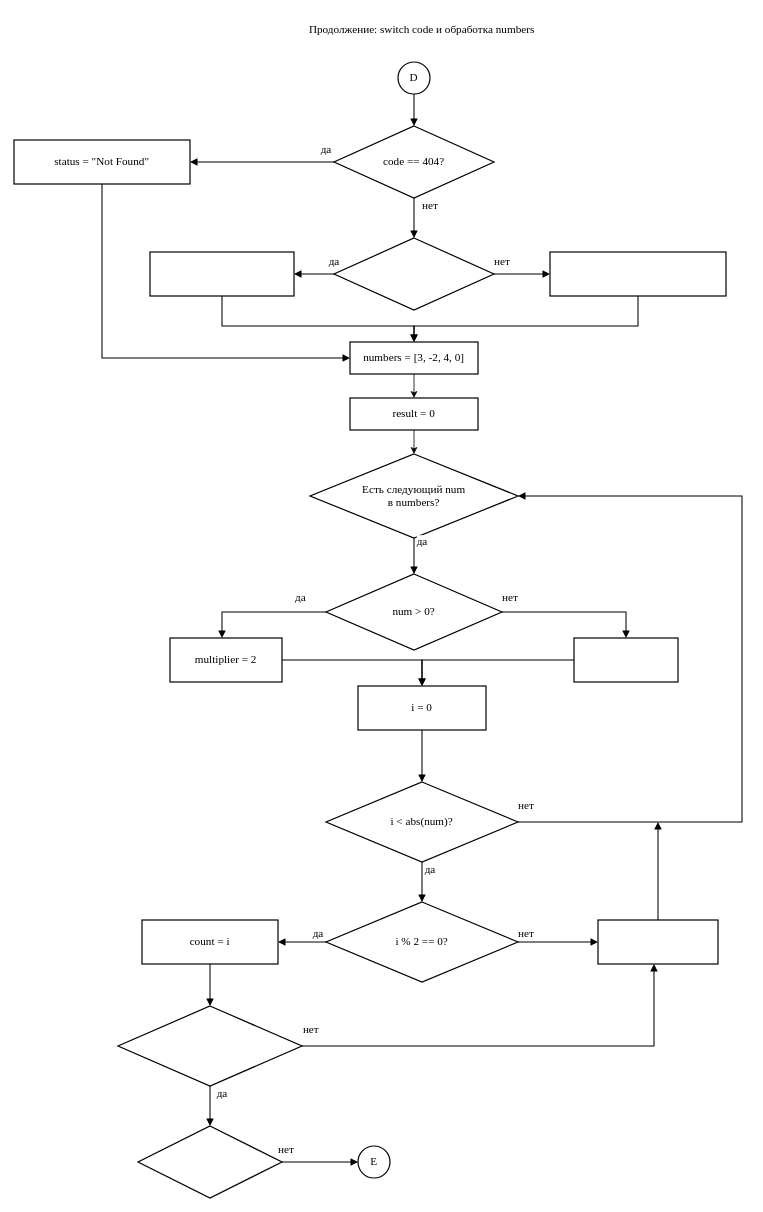
The diagram is 763 pixels wide and 1212 high, and some of its shapes have lost their labels. Here are the shapes that lost their labels. From the top down, the centre of each, then its label:
[221,273]: status = "Server Error"
[413,273]: code == 500?
[637,273]: status = "Unknown Error"
[625,659]: multiplier = 1
[657,941]: i += 1
[209,1045]: count < 3?
[209,1161]: count == 0?
